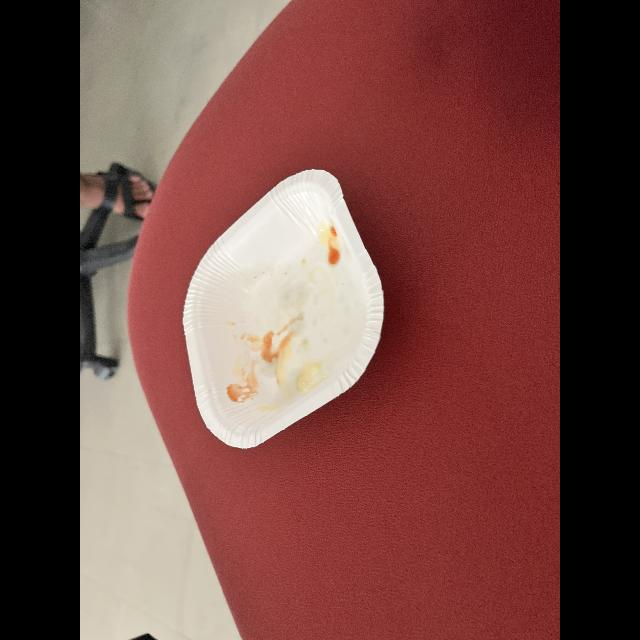cardboard_bowl: (176, 160, 394, 456)
